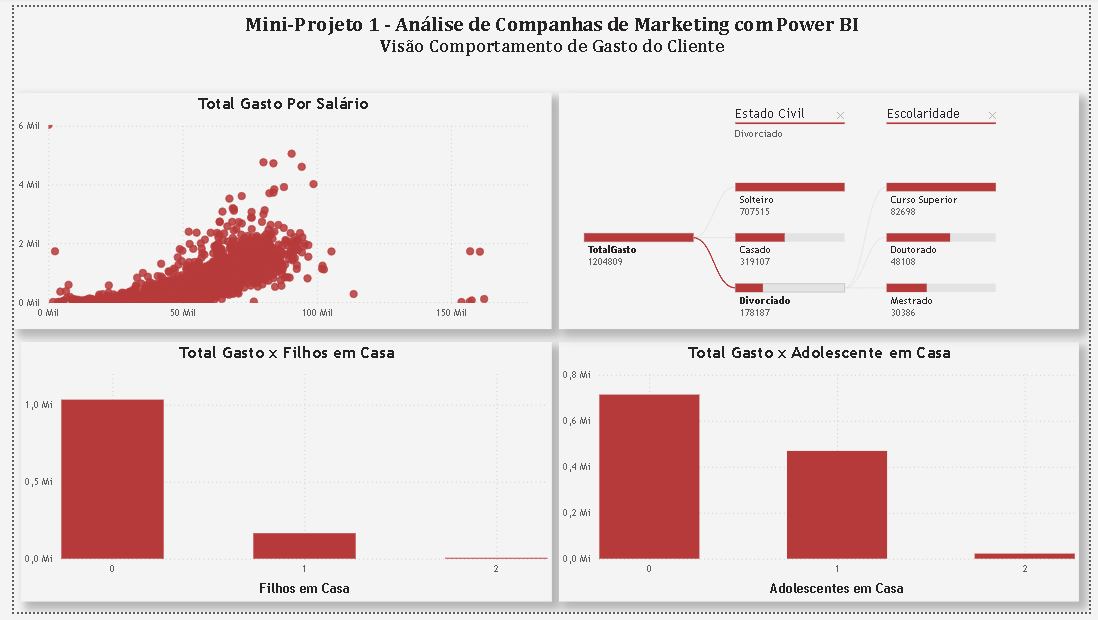

The page's visual inventory and layout, read from the dashboard file:
{"tool":"powerbi","page":{"name":"Visão Comportamento","canvas":[1280,720],"ordinal":1},"visuals":[{"type":"scatterChart","title":"Total Gasto Por Salário","fields":{"X":["DadosMarketing.Salario Anual"],"Y":["DadosMarketing.TotalGasto"]},"box":[0,102,640,281],"z":0},{"type":"textbox","box":[228,0,824,67],"z":1},{"type":"clusteredColumnChart","title":"Total Gasto x Filhos em Casa","fields":{"Category":["DadosMarketing.Filhos em Casa"],"Y":["DadosMarketing.TotalGasto"]},"box":[8,399,632,309],"z":2},{"type":"clusteredColumnChart","title":"Total Gasto x Adolescente em Casa","fields":{"Y":["DadosMarketing.TotalGasto"],"Category":["DadosMarketing.Adolescentes em Casa"]},"box":[649,399,619,309],"z":3},{"type":"decompositionTreeVisual","fields":{"Analyze":["DadosMarketing.TotalGasto"],"ExplainBy":["DadosMarketing.Estado Civil","DadosMarketing.Escolaridade"]},"box":[649,102,619,281],"z":4}]}

Visuals, with their boxes in screenshot pixels (x1, y1, x2, y2), scaled from the page's 1280x720 canvas onto the 1098x620 screenshot:
"Total Gasto Por Salário" scatterChart: x1=0 y1=88 x2=549 y2=330
textbox: x1=196 y1=0 x2=902 y2=58
"Total Gasto x Filhos em Casa" clusteredColumnChart: x1=7 y1=344 x2=549 y2=610
"Total Gasto x Adolescente em Casa" clusteredColumnChart: x1=557 y1=344 x2=1088 y2=610
decompositionTreeVisual - DadosMarketing.TotalGasto x DadosMarketing.Estado Civil: x1=557 y1=88 x2=1088 y2=330
